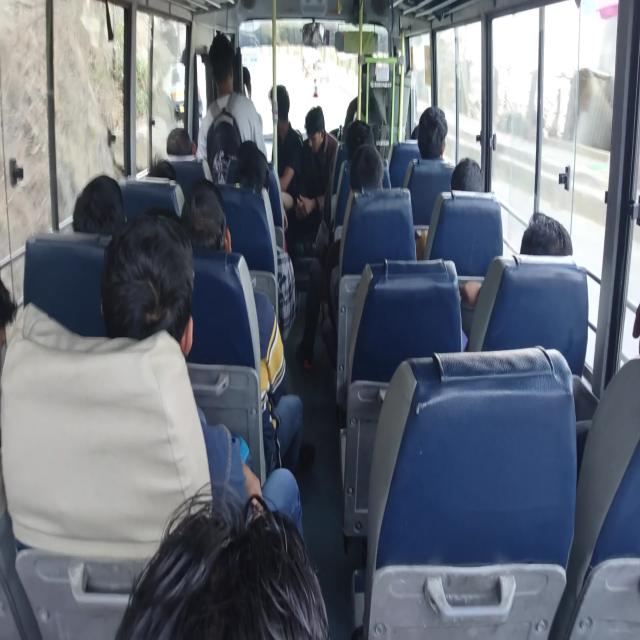person: (133, 479, 341, 640), (101, 232, 221, 406), (0, 261, 41, 400), (351, 130, 397, 232), (56, 180, 117, 249), (525, 210, 569, 297), (179, 194, 222, 258), (206, 49, 241, 113), (611, 302, 640, 373), (420, 93, 449, 163), (265, 80, 298, 134), (303, 105, 337, 156), (458, 151, 484, 211), (154, 155, 179, 209), (344, 114, 375, 153), (240, 147, 263, 192), (160, 122, 190, 156), (238, 124, 265, 155), (412, 110, 431, 142), (238, 62, 255, 95)
